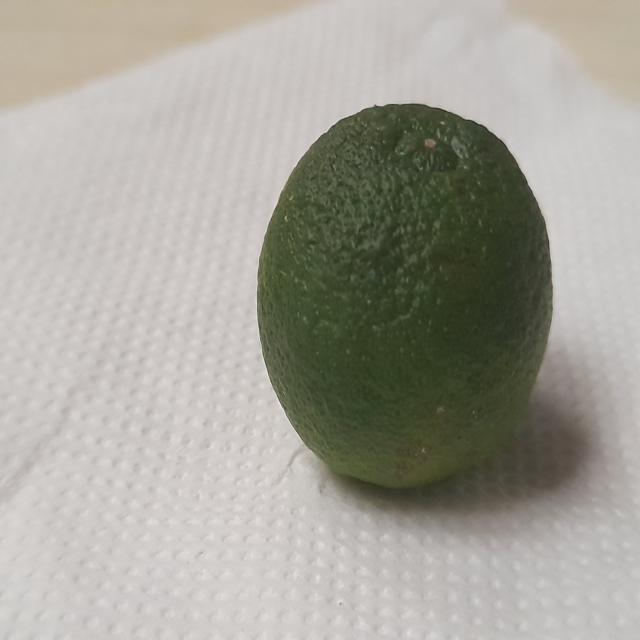heathy: (246, 97, 566, 504)
